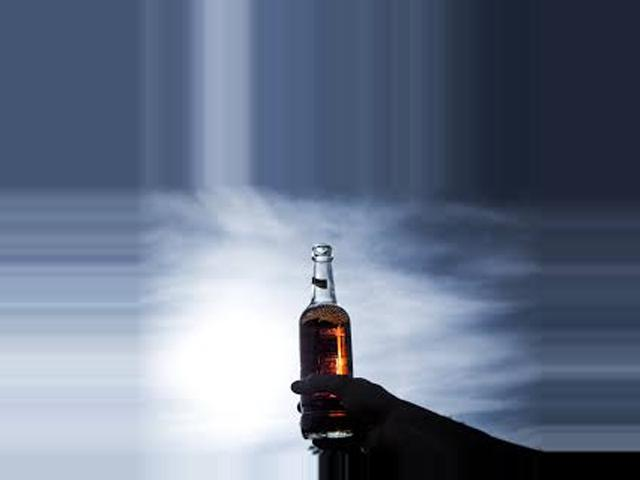beer: (302, 244, 353, 436)
